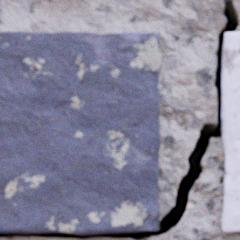brick: (0, 32, 161, 234), (221, 33, 239, 233)
crack: (0, 0, 239, 239)
